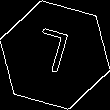L_S: (33, 27, 77, 83)
